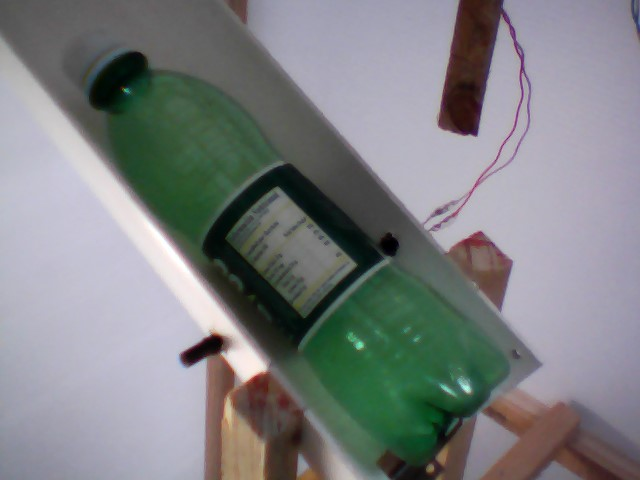plastico: (62, 16, 511, 480)
